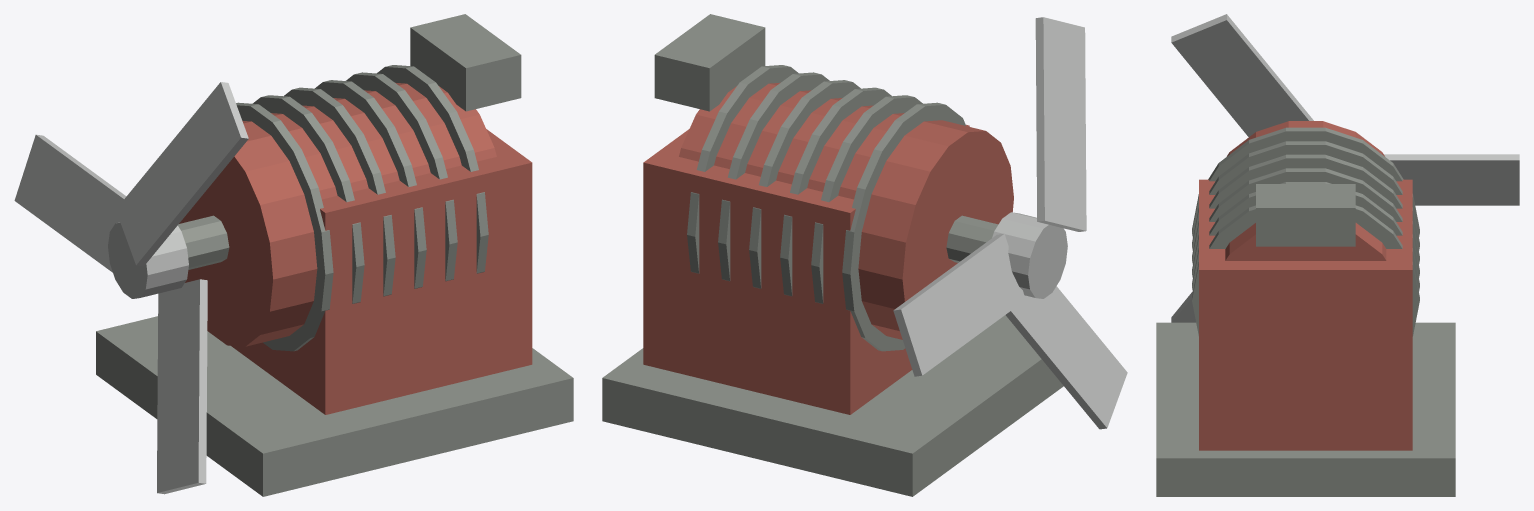
Rendered from dm_propellerengine.glb.
3 renders of one model, left to right at view 1: azimuth 30°, elevation 25°; view 2: azimuth 150°, elevation 25°; view 3: azimuth 270°, elevation 25°, orthographic. The views are drawn at different scales.
Visible parts, largest first — view 1: dm_propellerengine; view 2: dm_propellerengine; view 3: dm_propellerengine.
Boxes of the visible parts, box(x1,y1,x2,y2) form: dm_propellerengine: box(14, 14, 573, 496); dm_propellerengine: box(602, 14, 1127, 496); dm_propellerengine: box(1156, 14, 1519, 496).
Size of the model in its own units: 0.552 by 0.5524 by 0.51.
